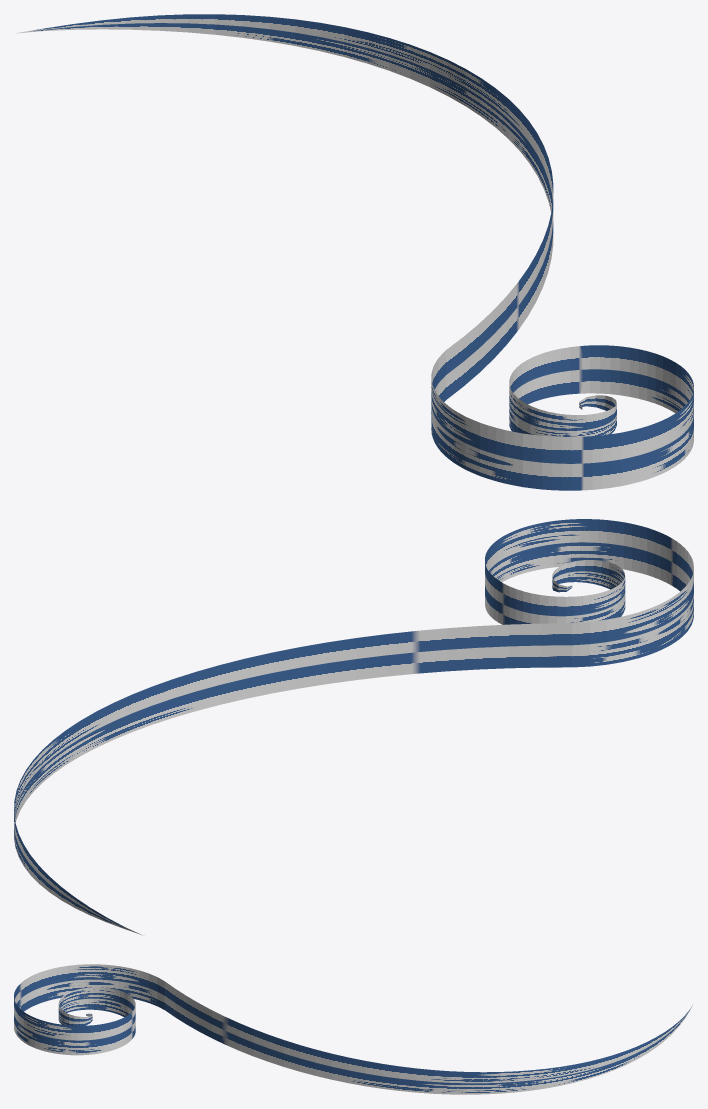
File: Rui_AtkThrow_Web1.fbx
The picture shows the model from 3 angles, top to bottom: view 1: azimuth 30°, elevation 25°; view 2: azimuth 150°, elevation 25°; view 3: azimuth 270°, elevation 25°; orthographic projection. The views are drawn at different scales.
Parts seen in each view (by area): view 1: SM_e_DLC_Plc_P1007_AtkThrow_Web001; view 2: SM_e_DLC_Plc_P1007_AtkThrow_Web001; view 3: SM_e_DLC_Plc_P1007_AtkThrow_Web001.
Boxes of the visible parts, <box> form: SM_e_DLC_Plc_P1007_AtkThrow_Web001: <box>16,14,693,490</box>; SM_e_DLC_Plc_P1007_AtkThrow_Web001: <box>14,519,693,935</box>; SM_e_DLC_Plc_P1007_AtkThrow_Web001: <box>14,964,692,1094</box>.
Size of the model in its own units: 269 by 37.55 by 745.
Materials: 1 (1 with a texture image).
